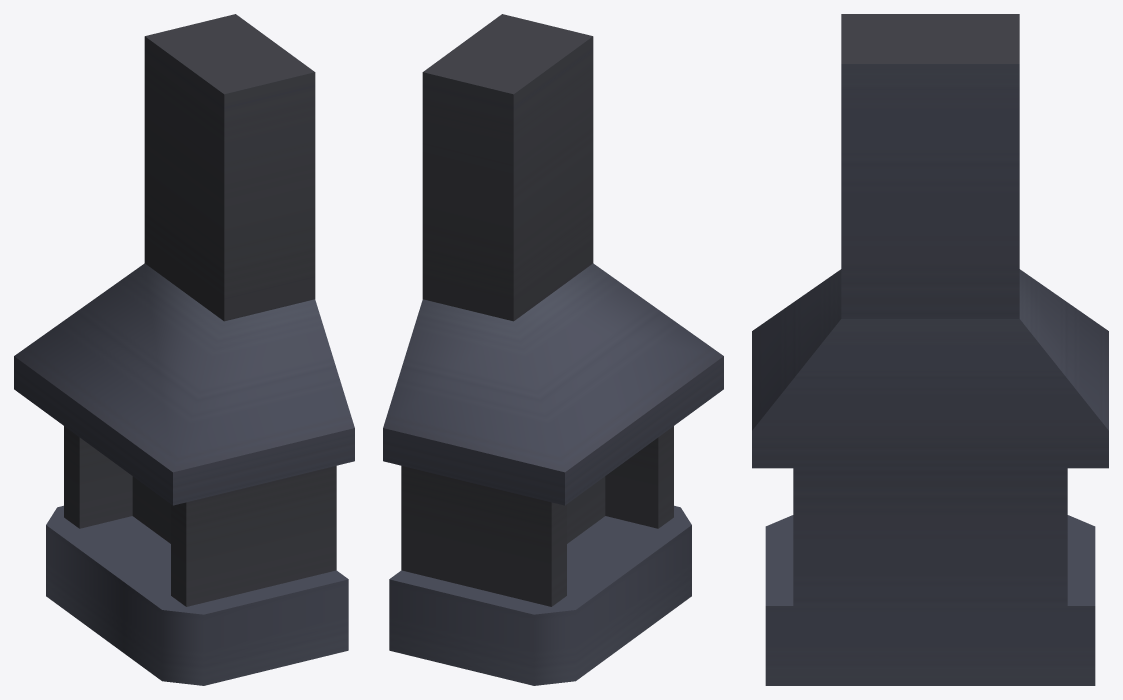
Rendered from chimney-base.glb.
3 views of the same model, side by side, from view 1: azimuth 30°, elevation 25°; view 2: azimuth 150°, elevation 25°; view 3: azimuth 270°, elevation 25° (orthographic). The views are drawn at different scales.
Parts seen in each view (by area): view 1: chimney-base; view 2: chimney-base; view 3: chimney-base.
Boxes of the visible parts, left/top/right/bottom form: chimney-base: left=14, top=14, right=354, bottom=685; chimney-base: left=383, top=14, right=723, bottom=685; chimney-base: left=752, top=14, right=1108, bottom=685.
Bounding box in the file's own units: 0.3438 × 1 × 0.52.
1 material, 1 textured.
